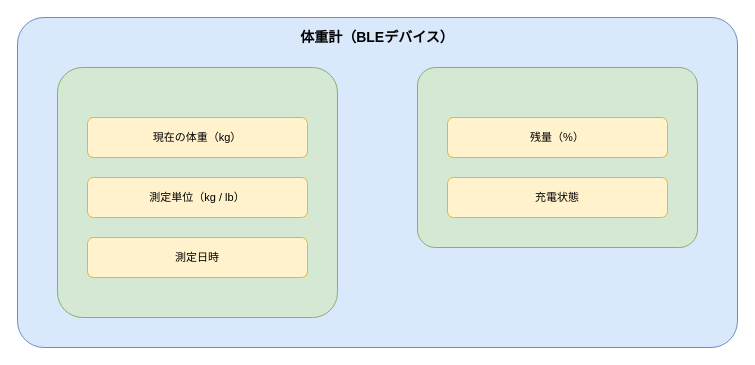
Image size: 755x365. Some labels were removed from this diagram. Each missing label, with the box of its shape:
バッテリー情報サービス: (416, 66, 698, 248)
体重測定サービス: (56, 66, 338, 318)
